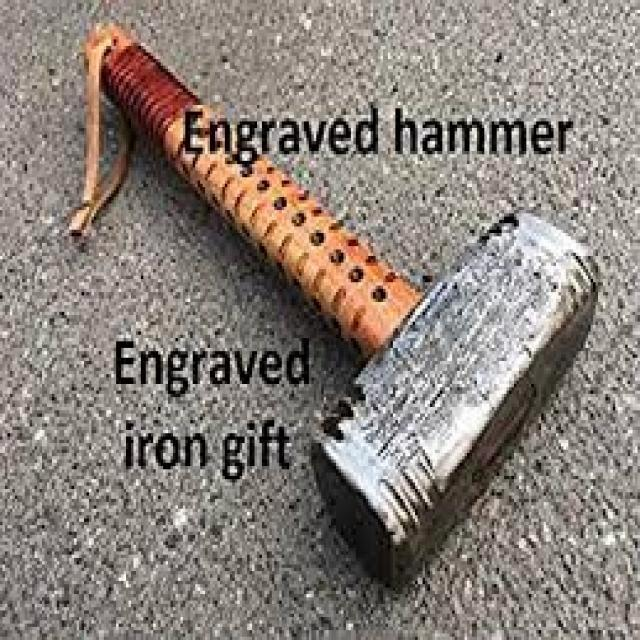hammer: (77, 10, 606, 598)
